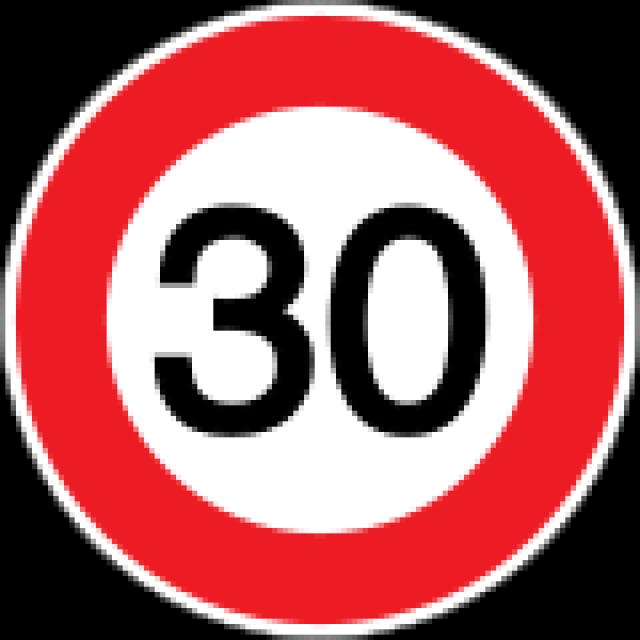Speed Limit -30-: (147, 190, 504, 446)
